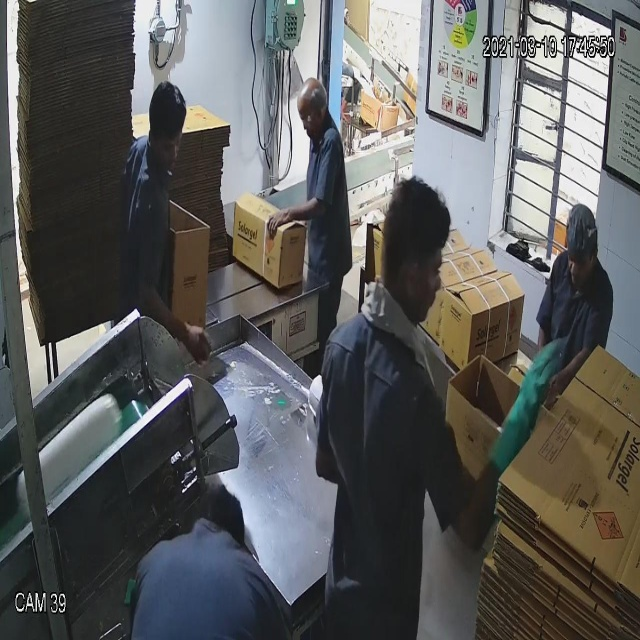Guantes: (479, 311, 570, 493)
Sin_guantes: (139, 268, 228, 375), (254, 180, 323, 250)
